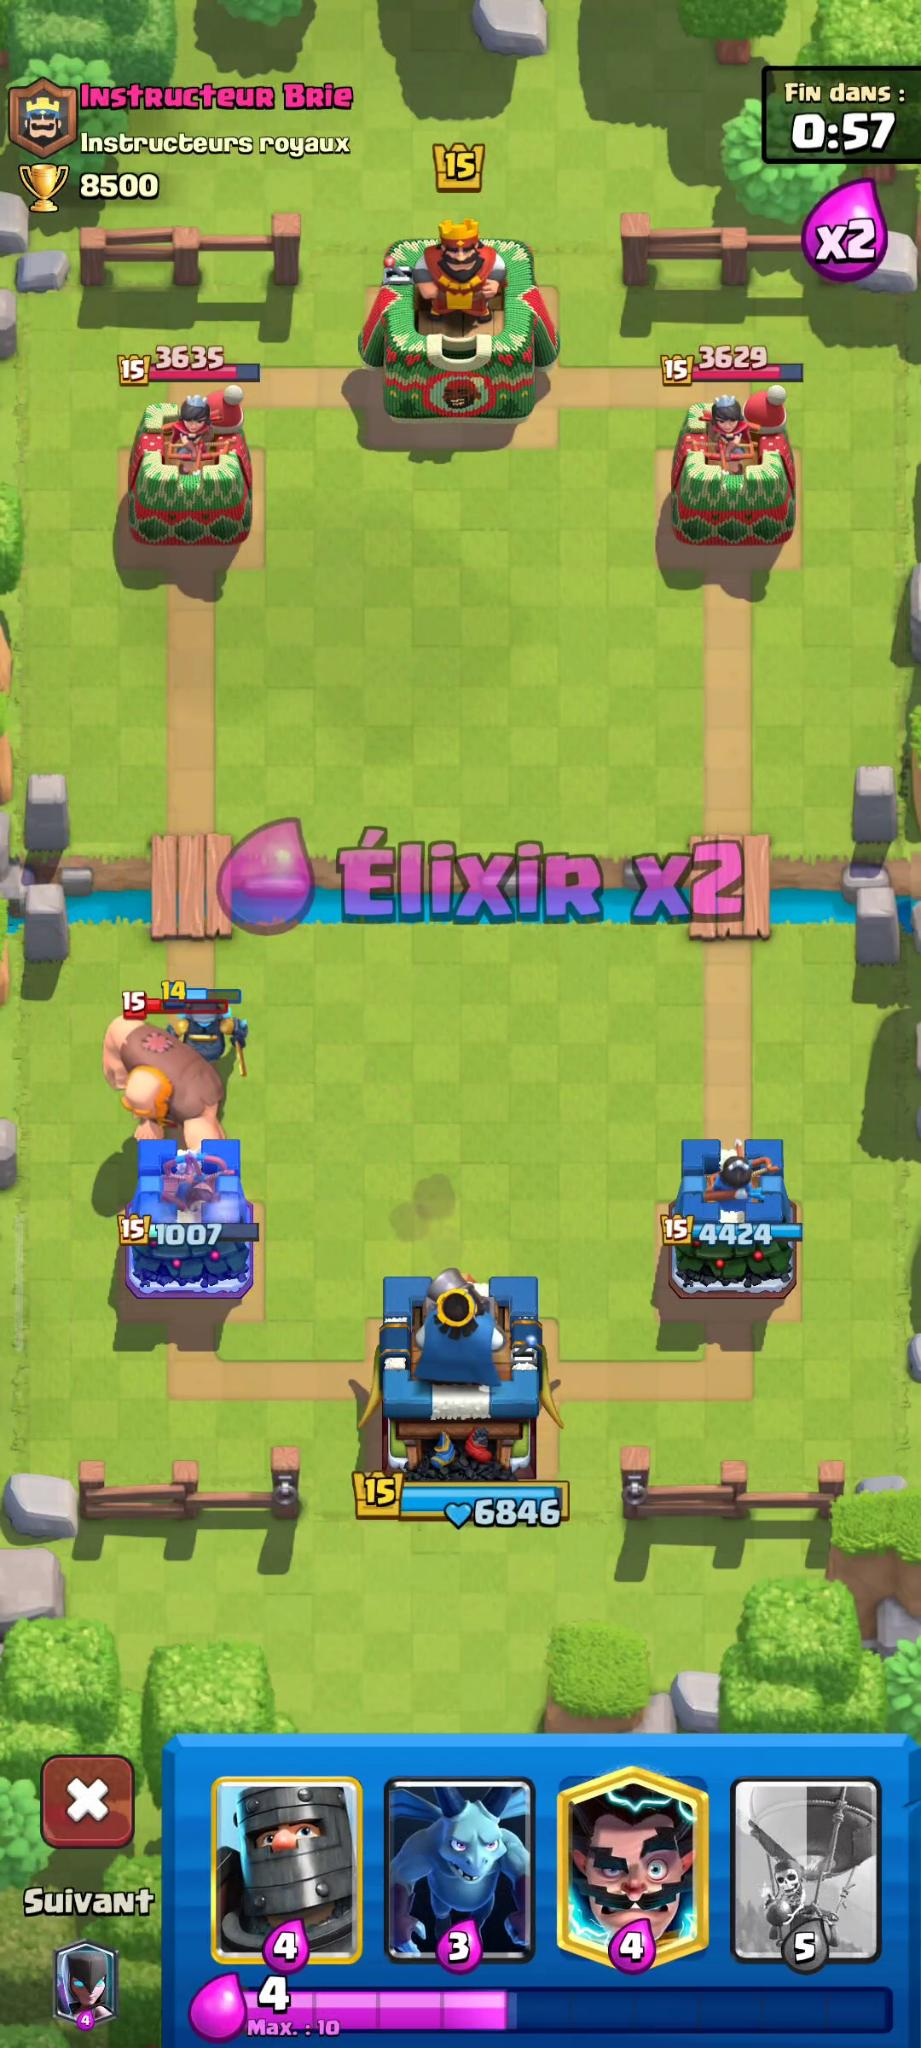geant: (93, 982, 248, 1178)
mini_PEKKA: (145, 986, 268, 1074)
